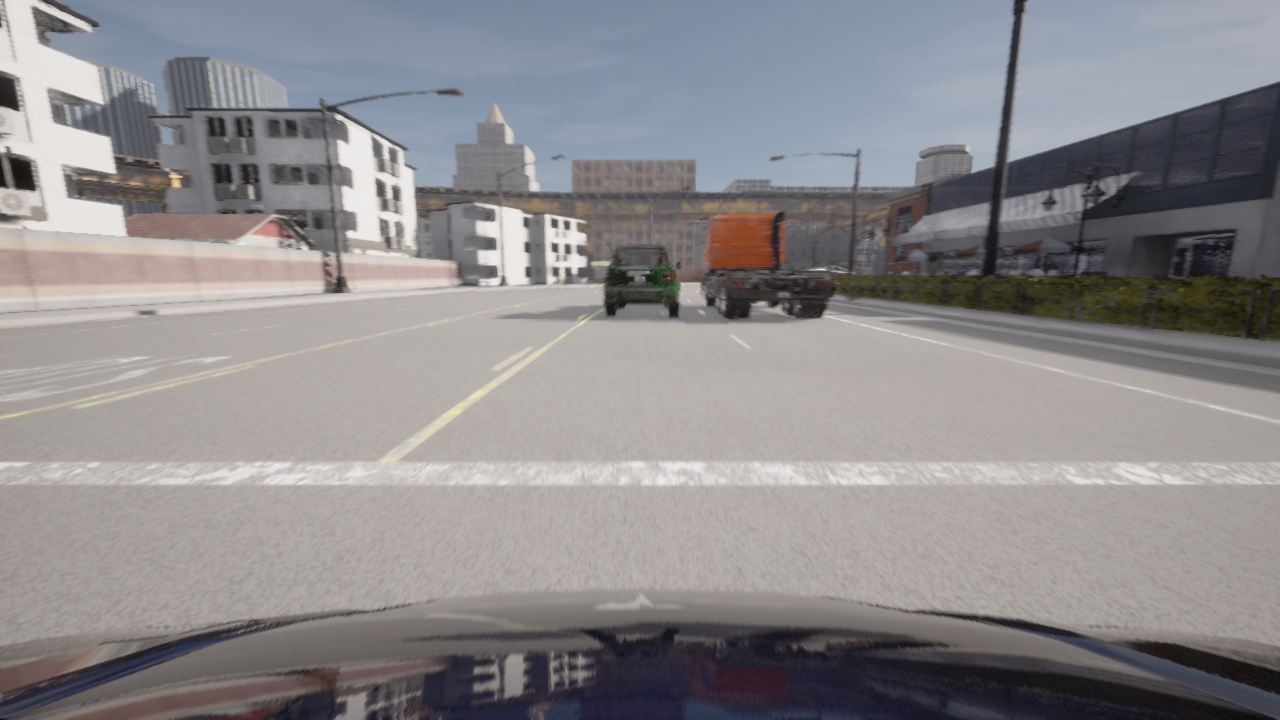cyclist: (0, 588, 1279, 719), (696, 210, 835, 318), (604, 245, 682, 316), (797, 266, 855, 275)
